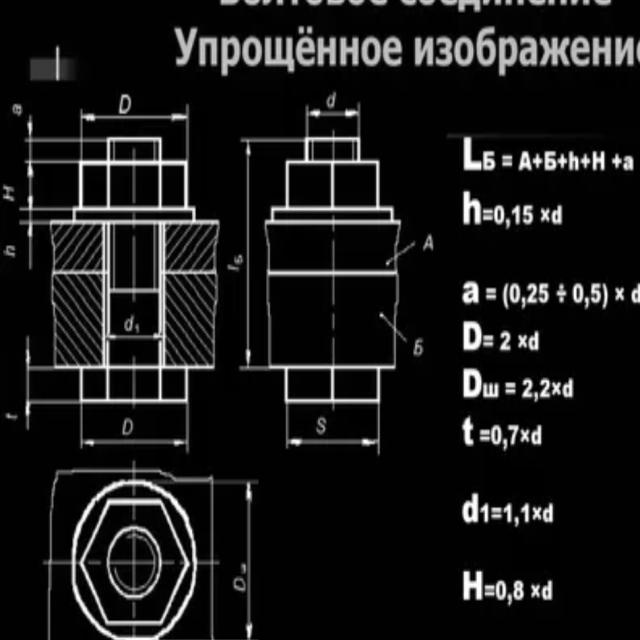marking_line: (242, 145, 255, 371), (84, 109, 189, 124), (244, 482, 254, 636), (25, 121, 35, 269), (291, 435, 380, 449), (83, 436, 186, 448), (307, 105, 358, 123), (22, 338, 31, 426)
